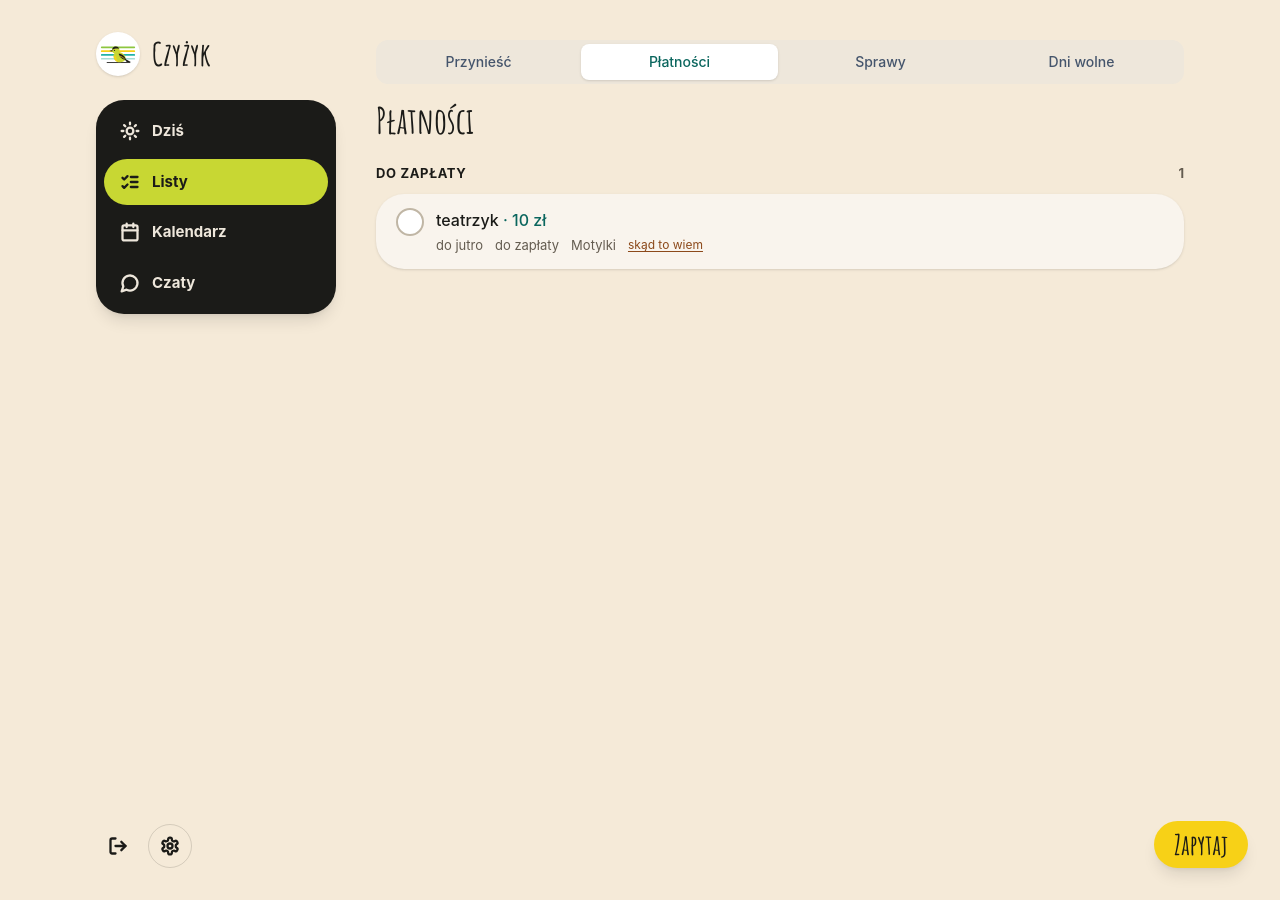
it: Płatności › oznaczenie i cofnięcie zapłaty
The width and height of the screenshot is (1280, 900).
Later steps or results of the test are not shown.
Click the checkbox named "teatrzyk: zapłacone": point(410, 222) [396,208,424,236]
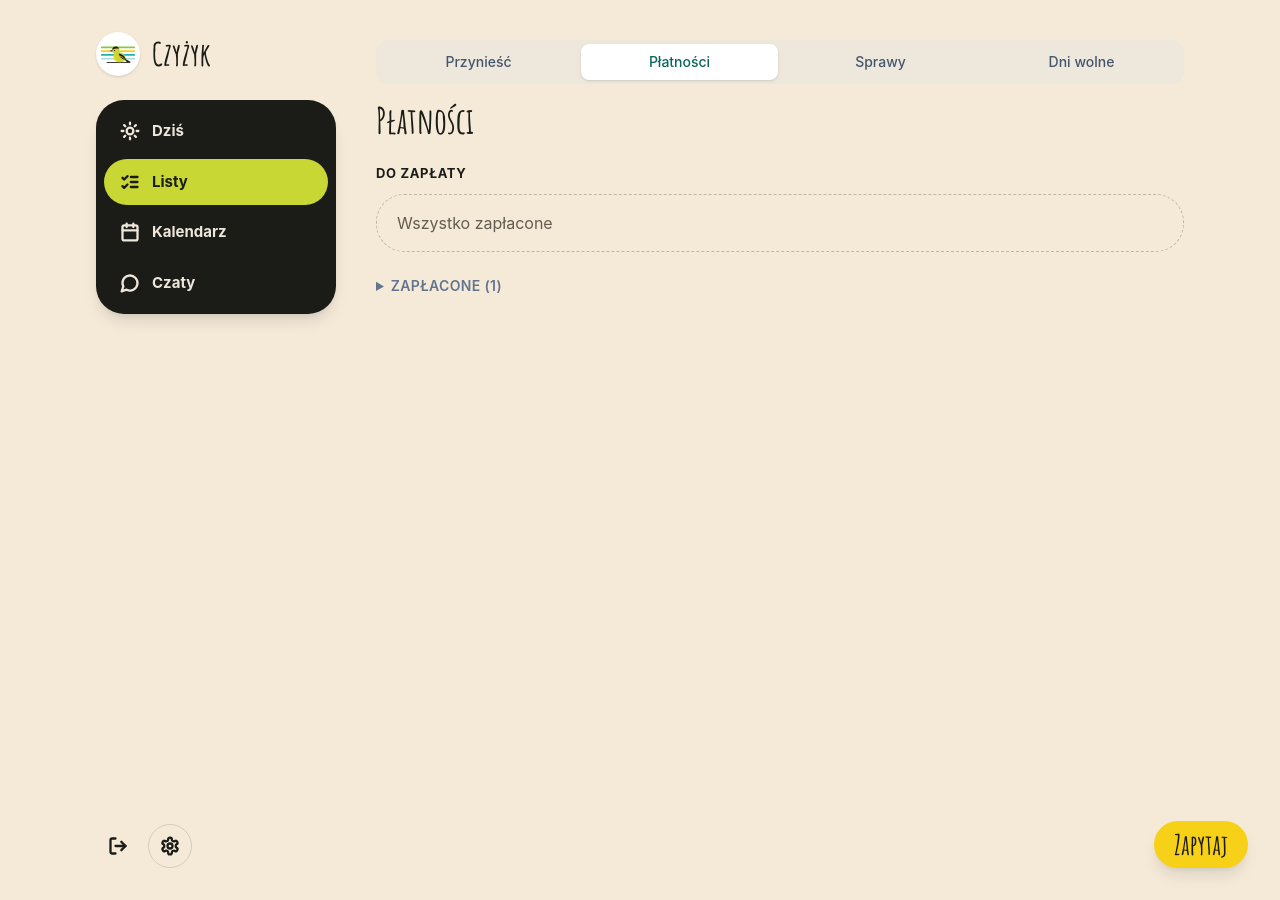
Check: the text "Wszystko zapłacone" is shown, box [376,194,1184,252]
